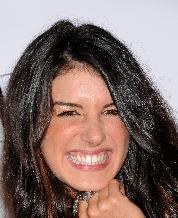face: (53, 99, 124, 171)
